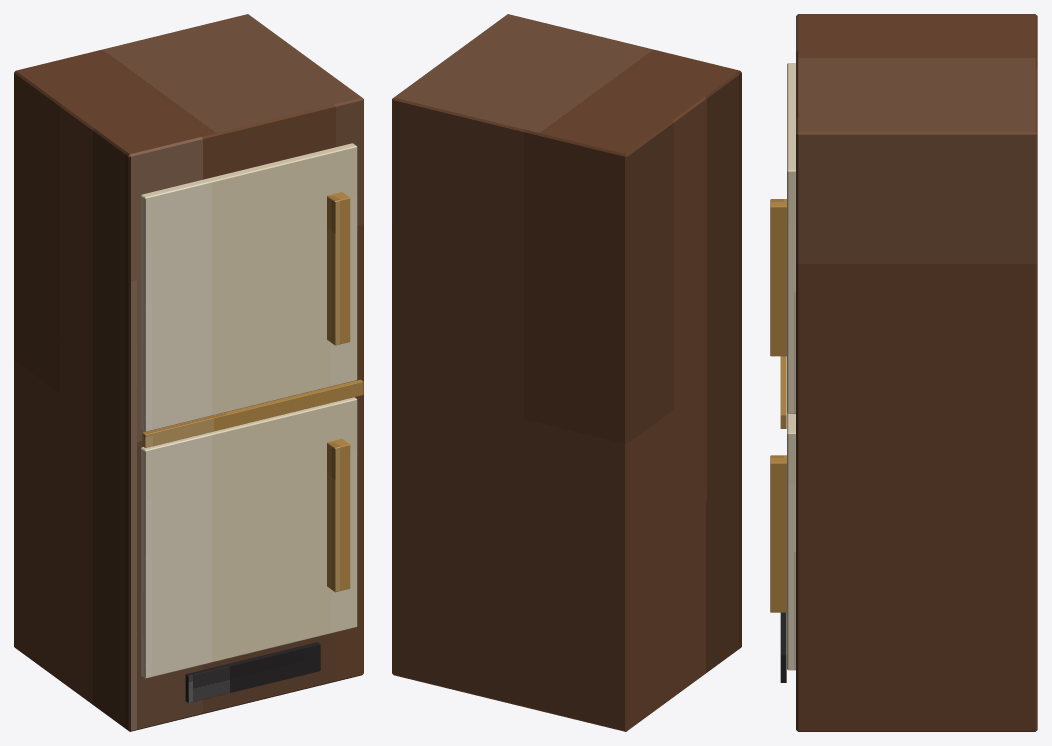
File: luxury_kitchen_fridge.glb
3 views of the same model, side by side, from view 1: azimuth 30°, elevation 25°; view 2: azimuth 150°, elevation 25°; view 3: azimuth 270°, elevation 25° (orthographic). The views are drawn at different scales.
Visible parts, largest first — view 1: FridgeBody, UpperDoor, LowerDoor, FridgeVent, FridgeGoldBand, FridgeHandle_1.4, FridgeHandle_0.58; view 2: FridgeBody; view 3: FridgeBody, UpperDoor, FridgeHandle_0.58, FridgeHandle_1.4, LowerDoor, FridgeGoldBand, FridgeVent.
Part boxes in pixels (x1,y1,x2,y2): FridgeBody: (14, 14, 363, 731); UpperDoor: (141, 143, 357, 431); LowerDoor: (141, 397, 357, 678); FridgeVent: (185, 642, 320, 702); FridgeGoldBand: (142, 379, 363, 447); FridgeHandle_1.4: (327, 192, 350, 345); FridgeHandle_0.58: (327, 438, 350, 592); FridgeBody: (392, 14, 741, 731); FridgeBody: (796, 14, 1037, 731); UpperDoor: (787, 63, 795, 413); FridgeHandle_0.58: (770, 455, 786, 612); FridgeHandle_1.4: (770, 199, 786, 356); LowerDoor: (787, 413, 795, 670); FridgeGoldBand: (780, 356, 786, 428); FridgeVent: (780, 612, 786, 682).
Bounding box in the file's own units: 0.82 × 1.92 × 0.7745.
Materials: 1 (1 with a texture image).
